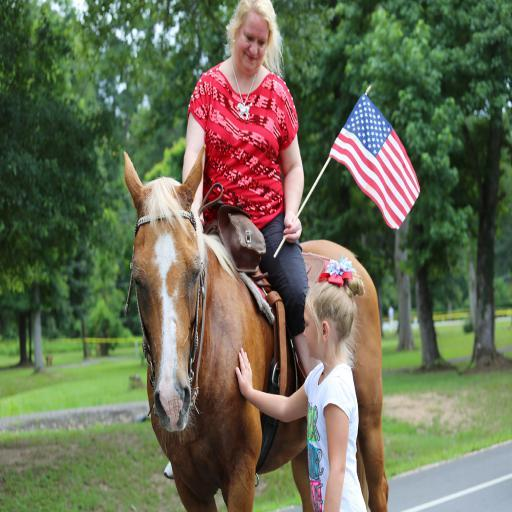Horse: (124, 150, 390, 512)
